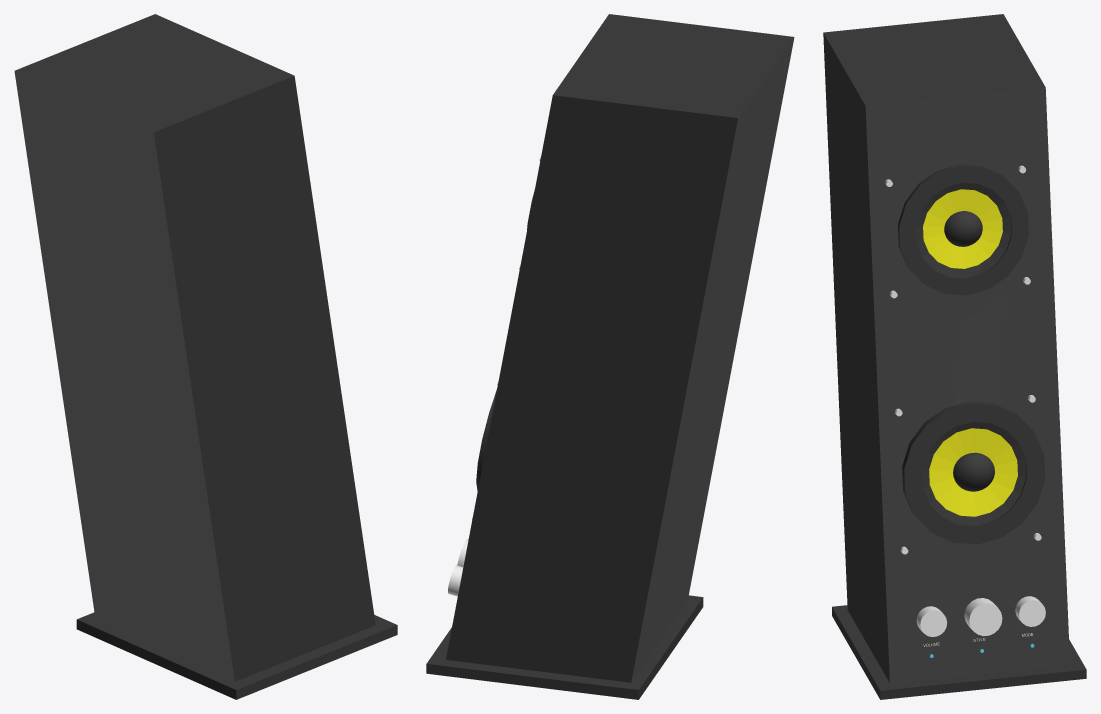
File: Speaker01.glb
3 views of the same model, side by side, from view 1: azimuth 30°, elevation 25°; view 2: azimuth 150°, elevation 25°; view 3: azimuth 270°, elevation 25° (orthographic). The views are drawn at different scales.
Parts seen in each view (by area): view 1: Box002, Box001; view 2: Box002, Box001; view 3: Box002, Cylinder001, Cylinder005, Box001, Cylinder003, Cylinder007, Cylinder004, Cylinder006, Sphere001, Cylinder008, Sphere002, Cylinder010 (+1 smaller).
Boxes of the visible parts, x1,y1,x2,y2 form: Box002: (14, 14, 375, 681); Box001: (76, 612, 397, 699); Box002: (446, 14, 794, 682); Box001: (426, 595, 703, 699); Box002: (823, 14, 1069, 683); Cylinder001: (902, 401, 1045, 544); Cylinder005: (898, 164, 1028, 295); Box001: (832, 605, 1086, 699); Cylinder003: (929, 428, 1017, 516); Cylinder007: (923, 189, 1002, 268); Cylinder004: (922, 422, 1026, 525); Cylinder006: (916, 182, 1011, 277); Sphere001: (953, 452, 994, 491); Cylinder008: (964, 598, 1002, 636); Sphere002: (944, 211, 982, 246); Cylinder010: (1015, 596, 1045, 626).
Bounding box in the file's own units: 16203 × 29008 × 12723.
